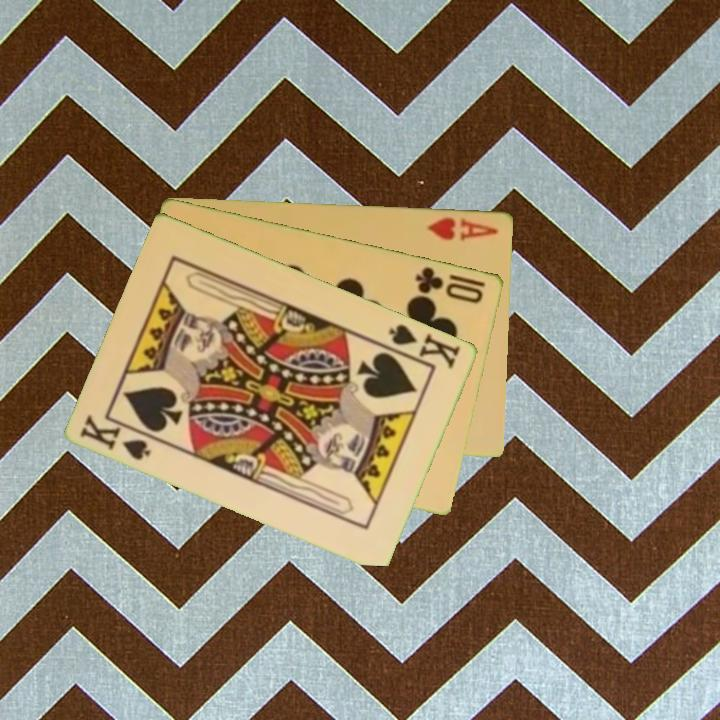10c: (412, 263, 487, 306)
Ah: (425, 213, 501, 244)
Ks: (77, 411, 162, 463), (381, 320, 464, 371)
